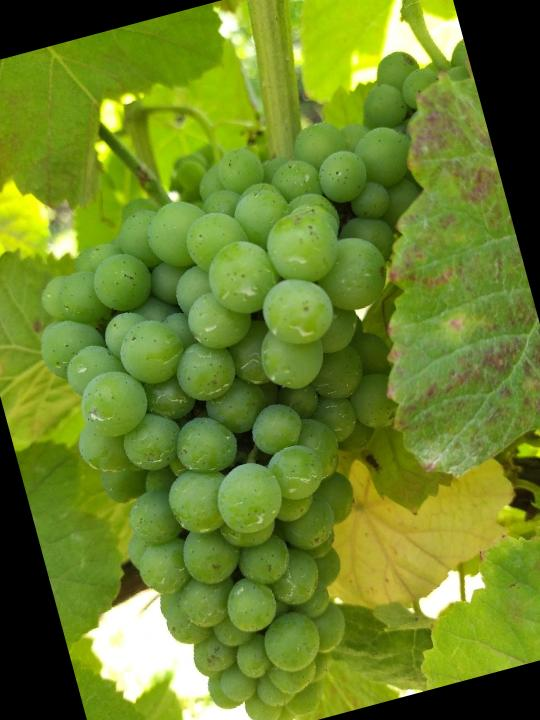grape: (9, 153, 491, 720)
